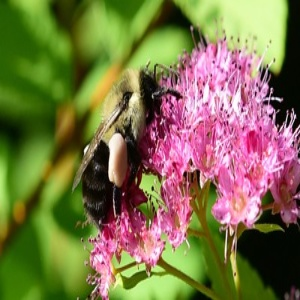bee: (70, 60, 184, 240)
